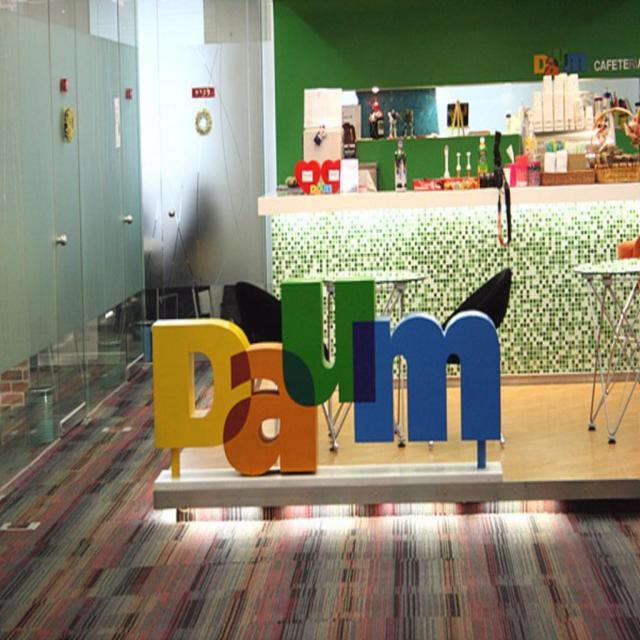table: (569, 223, 639, 446)
